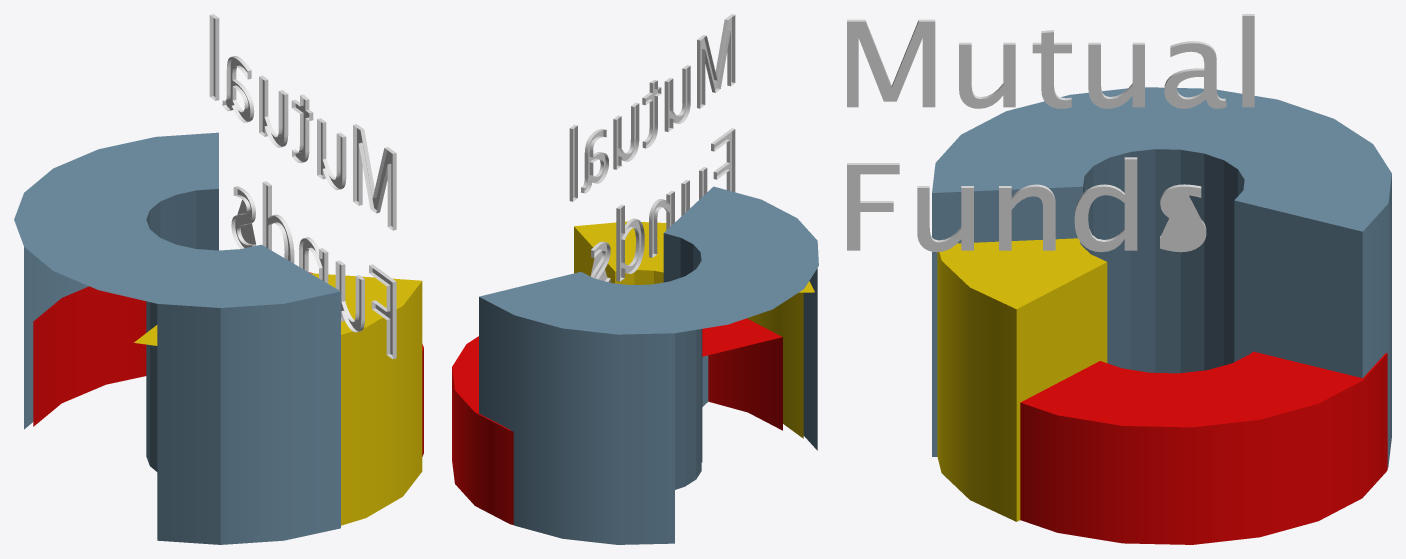
Rendered from Mutual funds (1).fbx.
The picture shows the model from 3 angles, left to right: view 1: azimuth 30°, elevation 25°; view 2: azimuth 150°, elevation 25°; view 3: azimuth 270°, elevation 25°; orthographic projection. The views are drawn at different scales.
Visible parts, largest first — view 1: polySurface19, polySurface20, typeMesh1, polySurface18; view 2: polySurface19, polySurface18, typeMesh1, polySurface20; view 3: polySurface19, polySurface18, polySurface20, typeMesh1.
Boxes of the visible parts, box(x1,y1,x2,y2) form: polySurface19: box(14, 132, 340, 544); polySurface20: box(134, 273, 422, 525); typeMesh1: box(209, 14, 396, 359); polySurface18: box(33, 272, 423, 456); polySurface19: box(479, 186, 818, 544); polySurface18: box(452, 318, 782, 524); typeMesh1: box(569, 14, 735, 282); polySurface20: box(574, 221, 814, 462); polySurface19: box(932, 87, 1391, 467); polySurface18: box(1020, 351, 1387, 544); polySurface20: box(937, 238, 1107, 521); typeMesh1: box(847, 14, 1254, 252).
Size of the model in its own units: 6.33 by 6.85 by 7.51.
